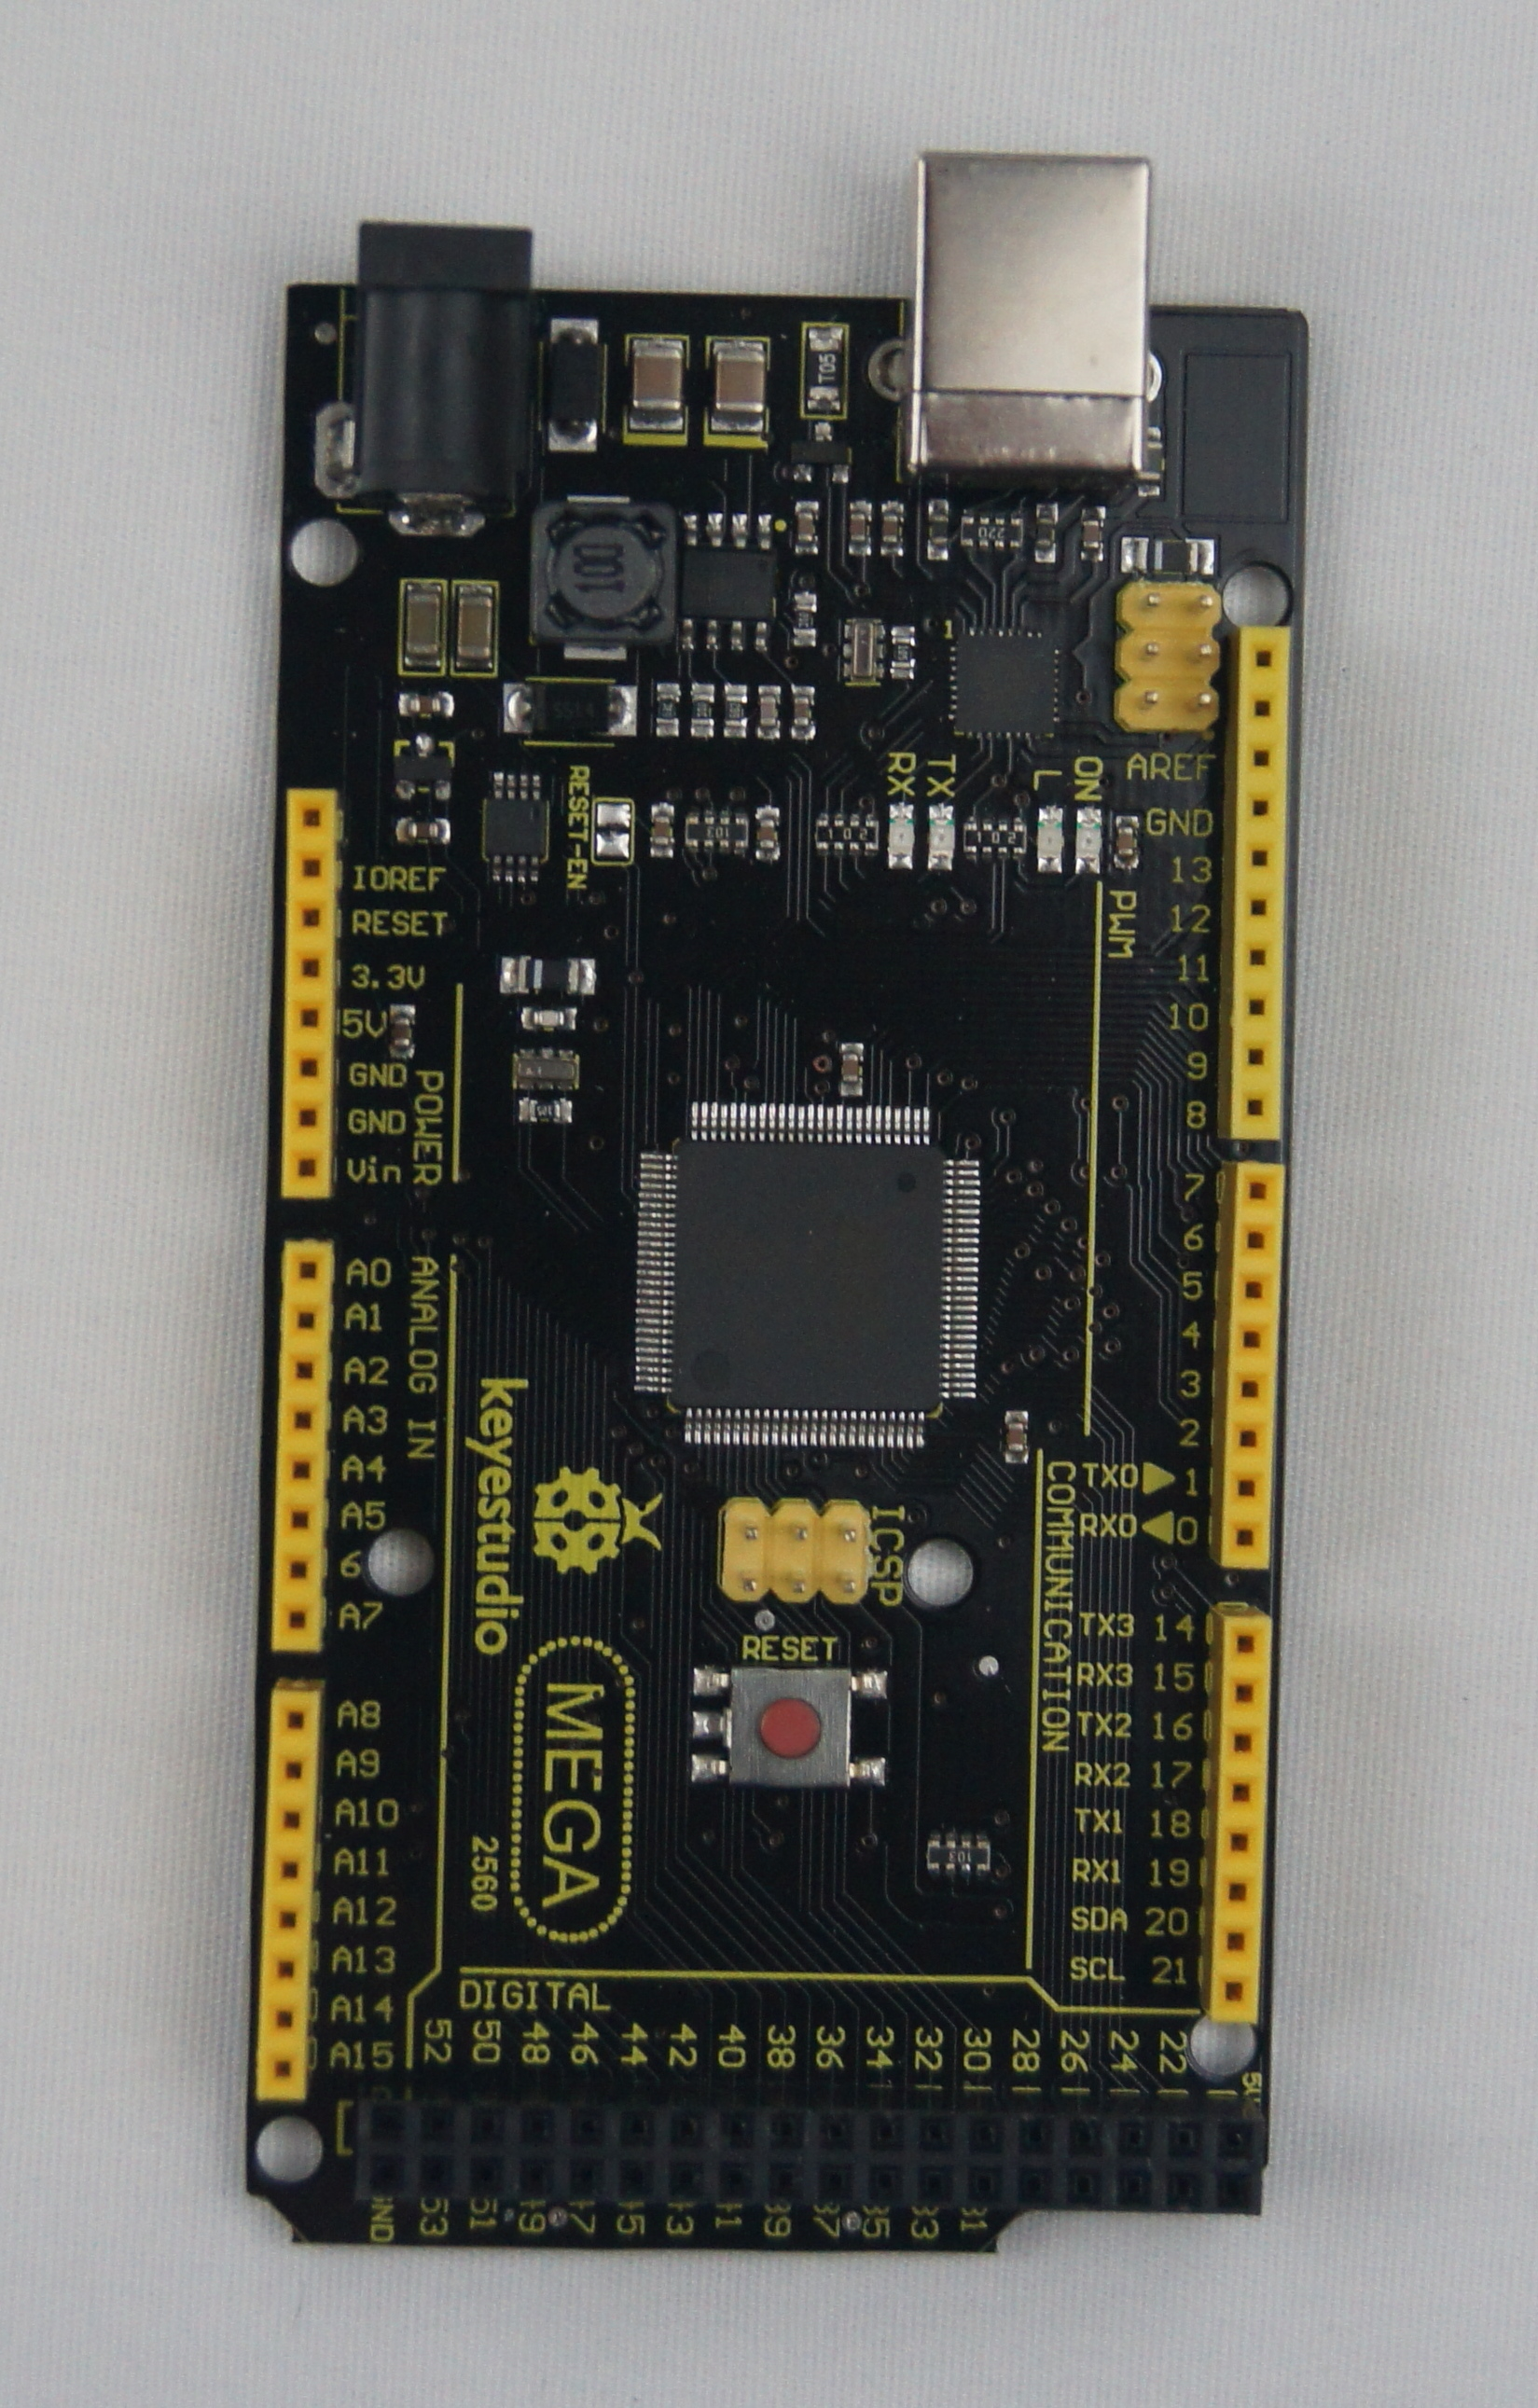kondensator: (629, 335, 685, 426), (713, 337, 767, 428), (453, 583, 495, 672), (406, 581, 442, 669), (643, 806, 674, 855), (836, 1046, 860, 1097), (1115, 820, 1139, 867), (755, 814, 778, 864), (400, 693, 449, 714), (402, 820, 448, 841), (792, 690, 813, 735), (844, 507, 864, 549), (1006, 1418, 1025, 1458), (1082, 516, 1099, 558), (758, 690, 776, 732), (878, 507, 894, 553), (392, 1011, 409, 1051), (795, 507, 813, 546)
